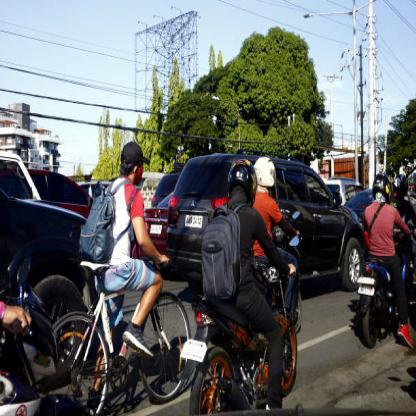Motorcycle: (182, 270, 299, 415)
